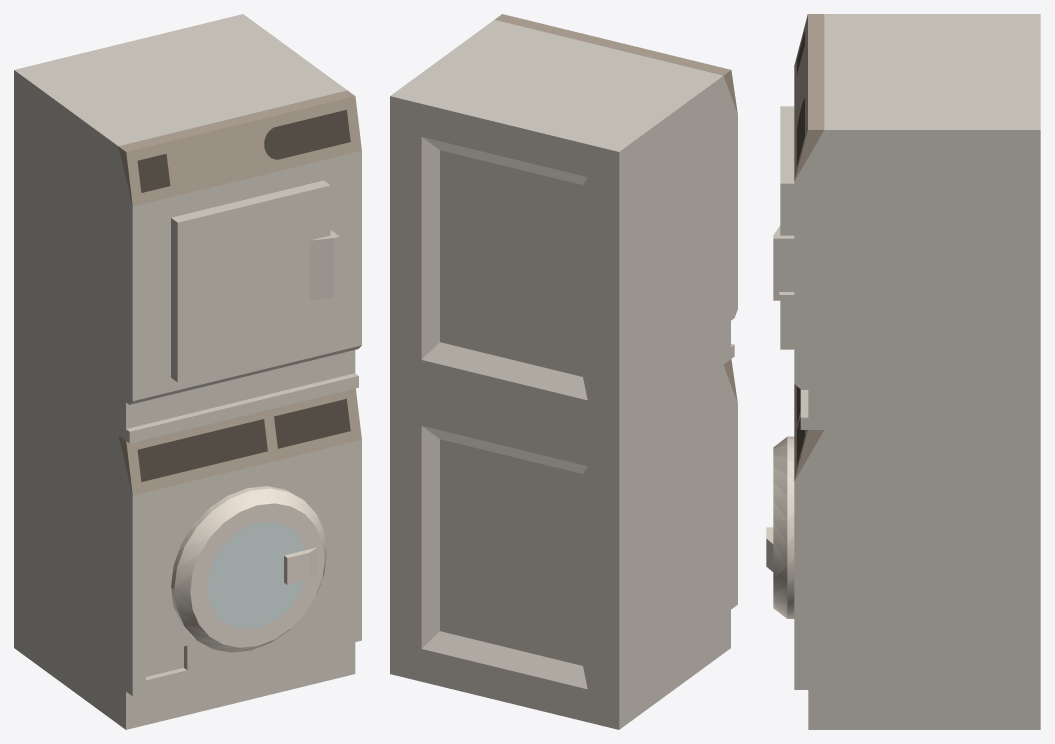
File: kitWasherDryerStacked.glb
3 views of the same model, side by side, from view 1: azimuth 30°, elevation 25°; view 2: azimuth 150°, elevation 25°; view 3: azimuth 270°, elevation 25° (orthographic). The views are drawn at different scales.
Parts seen in each view (by area): view 1: kitWasherDryerStacked_metalLight, kitWasherDryerStacked_metalMedium, kitWasherDryerStacked_metal, kitWasherDryerStacked_metalDark, kitWasherDryerStacked_glass; view 2: kitWasherDryerStacked_metalLight, kitWasherDryerStacked_metalMedium; view 3: kitWasherDryerStacked_metalLight, kitWasherDryerStacked_metalMedium, kitWasherDryerStacked_metal, kitWasherDryerStacked_metalDark.
Boxes of the visible parts, <box> form: kitWasherDryerStacked_metalLight: <box>14,14,361,729</box>; kitWasherDryerStacked_metalMedium: <box>118,90,361,495</box>; kitWasherDryerStacked_metal: <box>171,486,326,652</box>; kitWasherDryerStacked_metalDark: <box>137,109,350,481</box>; kitWasherDryerStacked_glass: <box>207,522,305,629</box>; kitWasherDryerStacked_metalLight: <box>390,20,737,729</box>; kitWasherDryerStacked_metalMedium: <box>494,14,737,402</box>; kitWasherDryerStacked_metalLight: <box>773,14,1040,729</box>; kitWasherDryerStacked_metalMedium: <box>794,14,824,480</box>; kitWasherDryerStacked_metal: <box>766,436,794,618</box>; kitWasherDryerStacked_metalDark: <box>797,31,804,465</box>.
Bounding box in the file's own units: 0.78 × 1.88 × 0.78.
